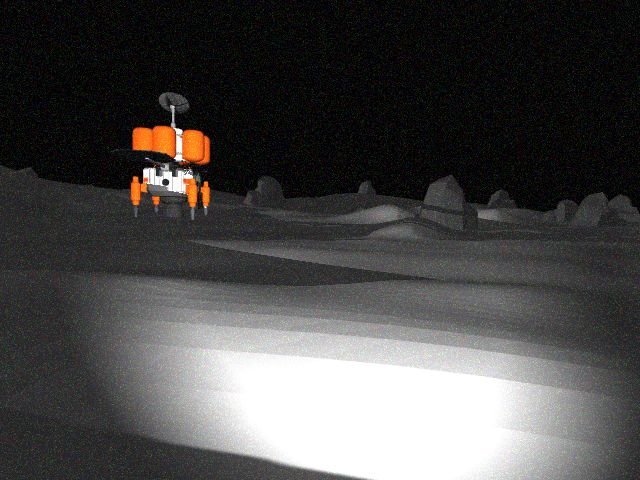homebase: (111, 90, 220, 222)
